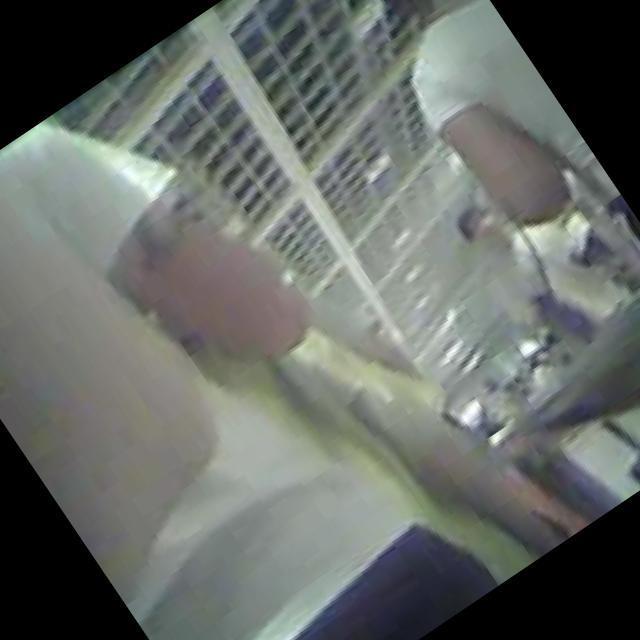person: (0, 59, 491, 640), (311, 0, 640, 348), (439, 150, 640, 372)
